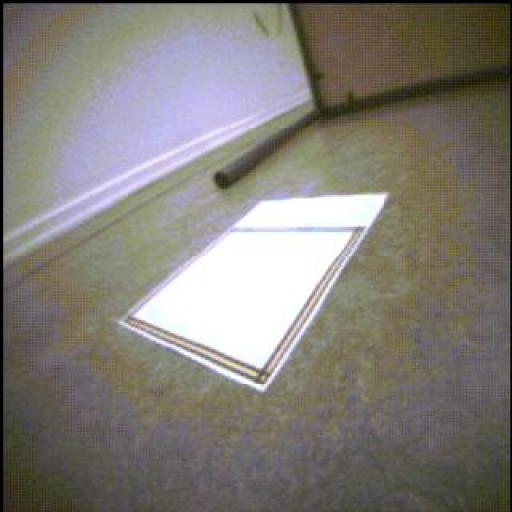Pad: (123, 195, 388, 392)
